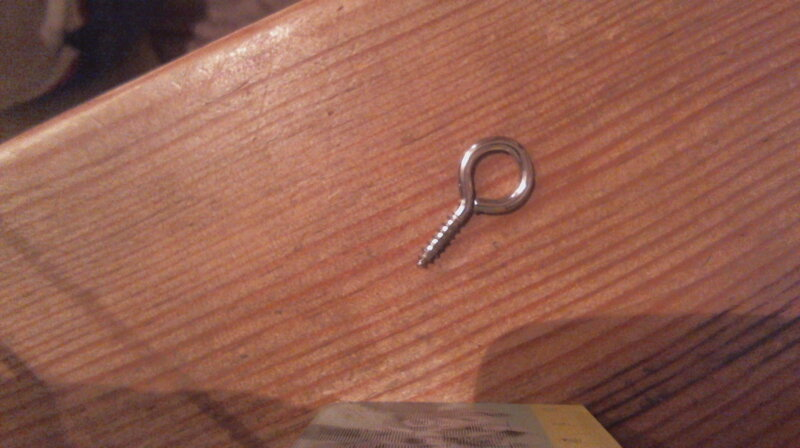O001: (415, 134, 536, 270)
